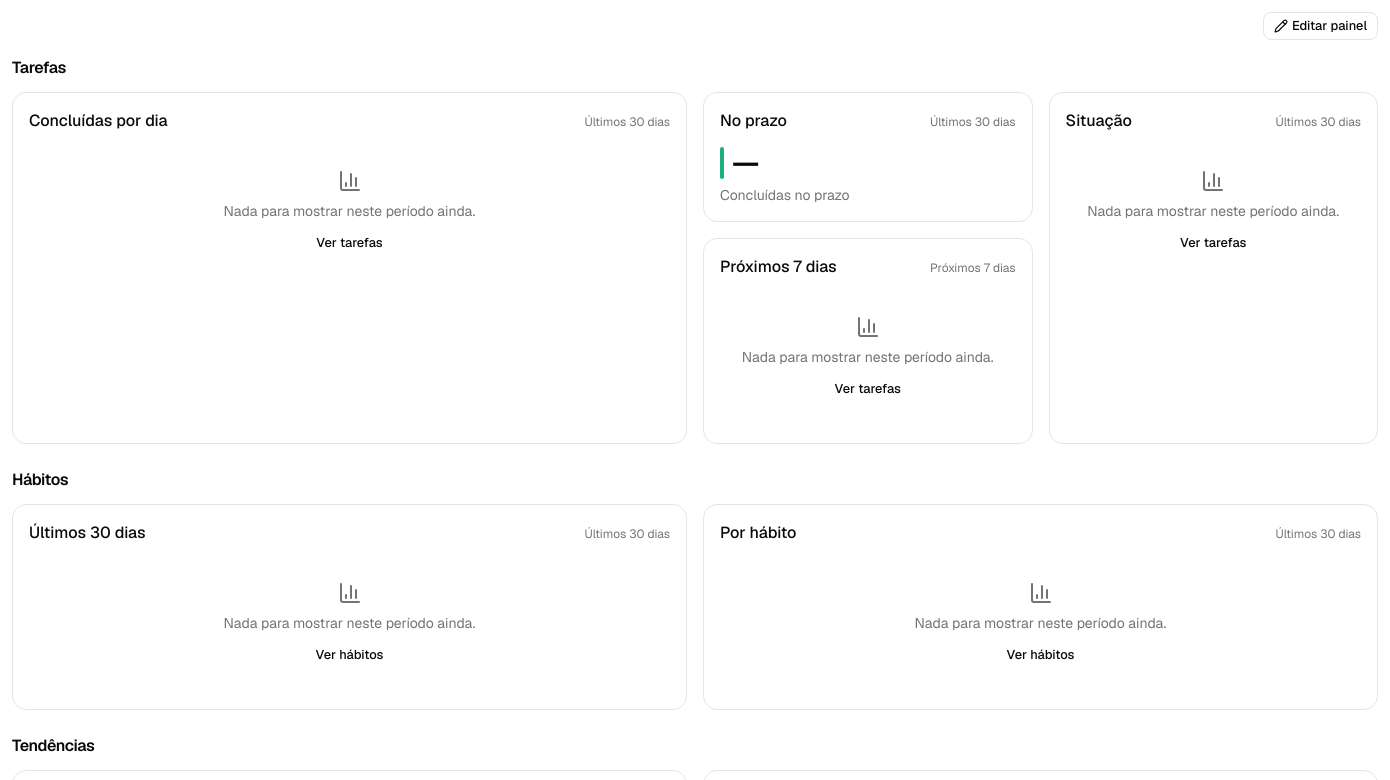
Scenario: DashboardBoard › shows the dashboard read-only until the user starts editing
This screenshot has width=1390, height=780.
expect the element "Tarefas" is shown: met, box [12, 56, 1378, 444]
expect the button "Adicionar gráfico" is not shown: met
Click the button "Editar painel".
click(1320, 26)  # box [1263, 12, 1378, 40]
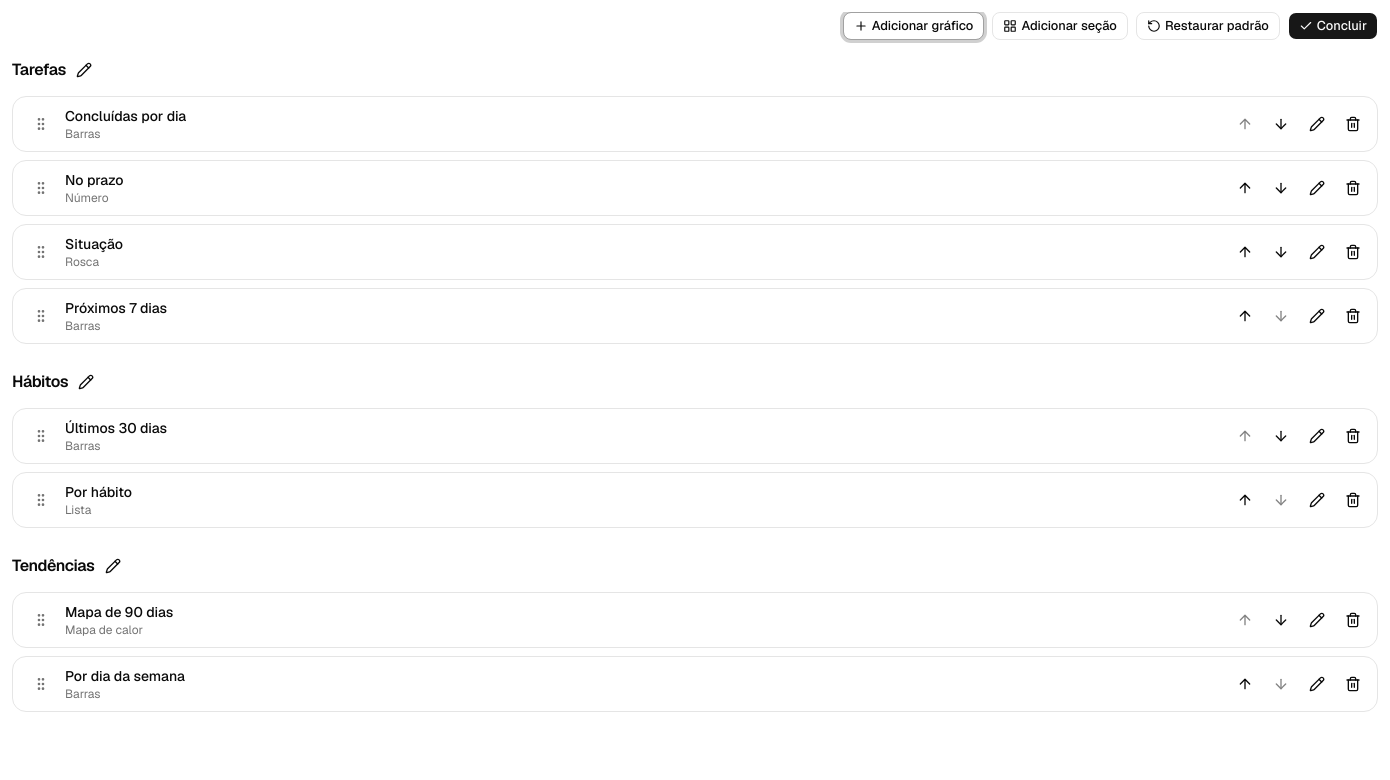
expect the button "Adicionar gráfico" is shown: met, box [843, 12, 984, 40]
expect the button named "Renomear a seção Tarefas" is shown: met, box [70, 56, 98, 84]
Click the button "Concluir".
click(1333, 26)  # box [1288, 12, 1378, 40]
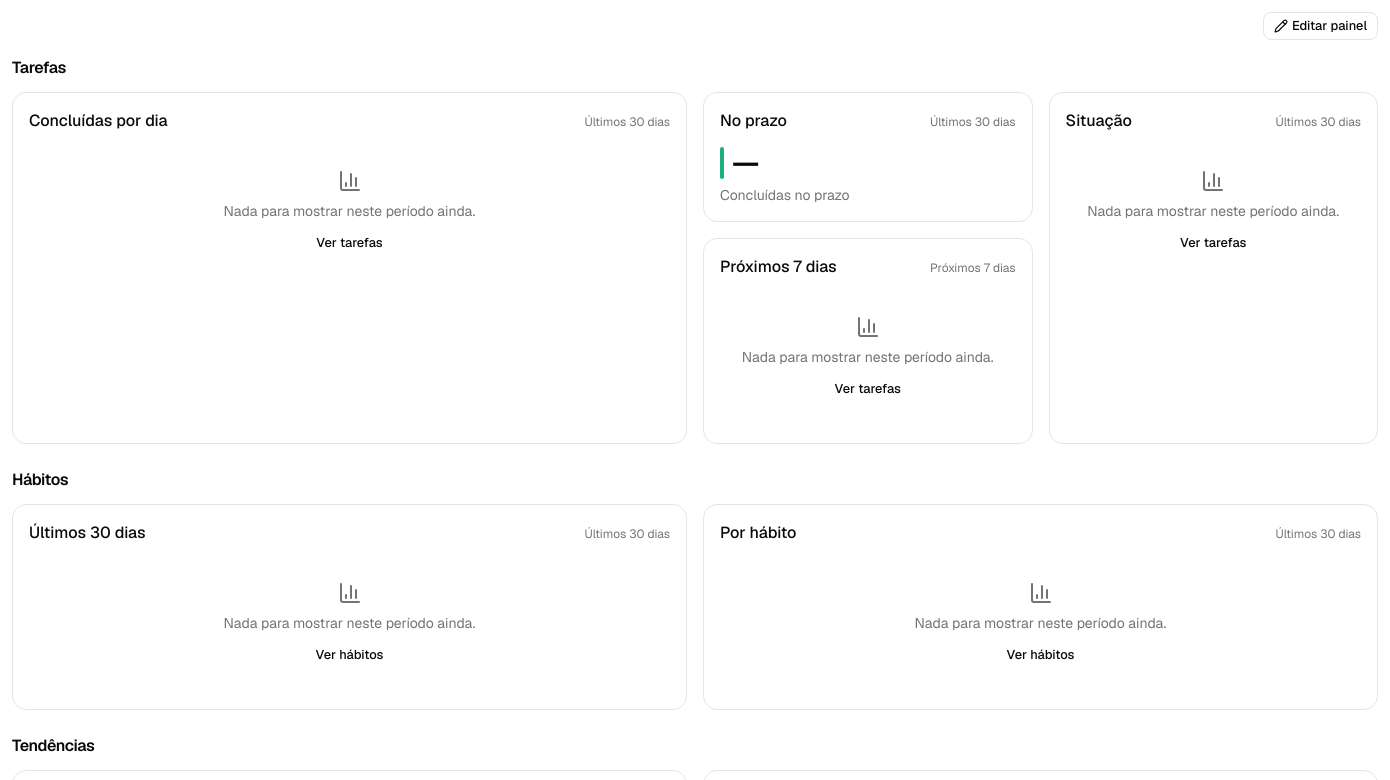
expect the button "Editar painel" is shown: met, box [1263, 12, 1378, 40]
